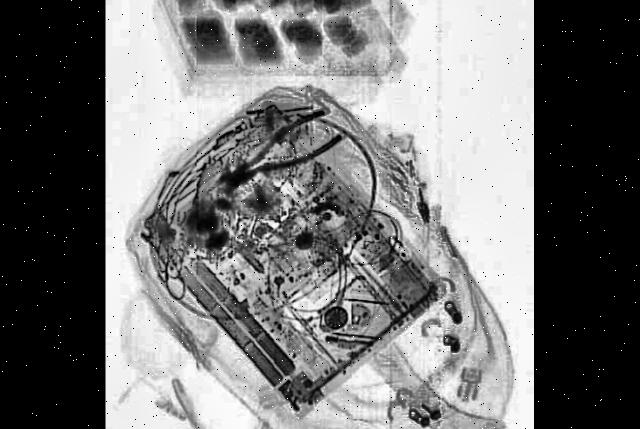Pliers: (222, 99, 345, 208)
